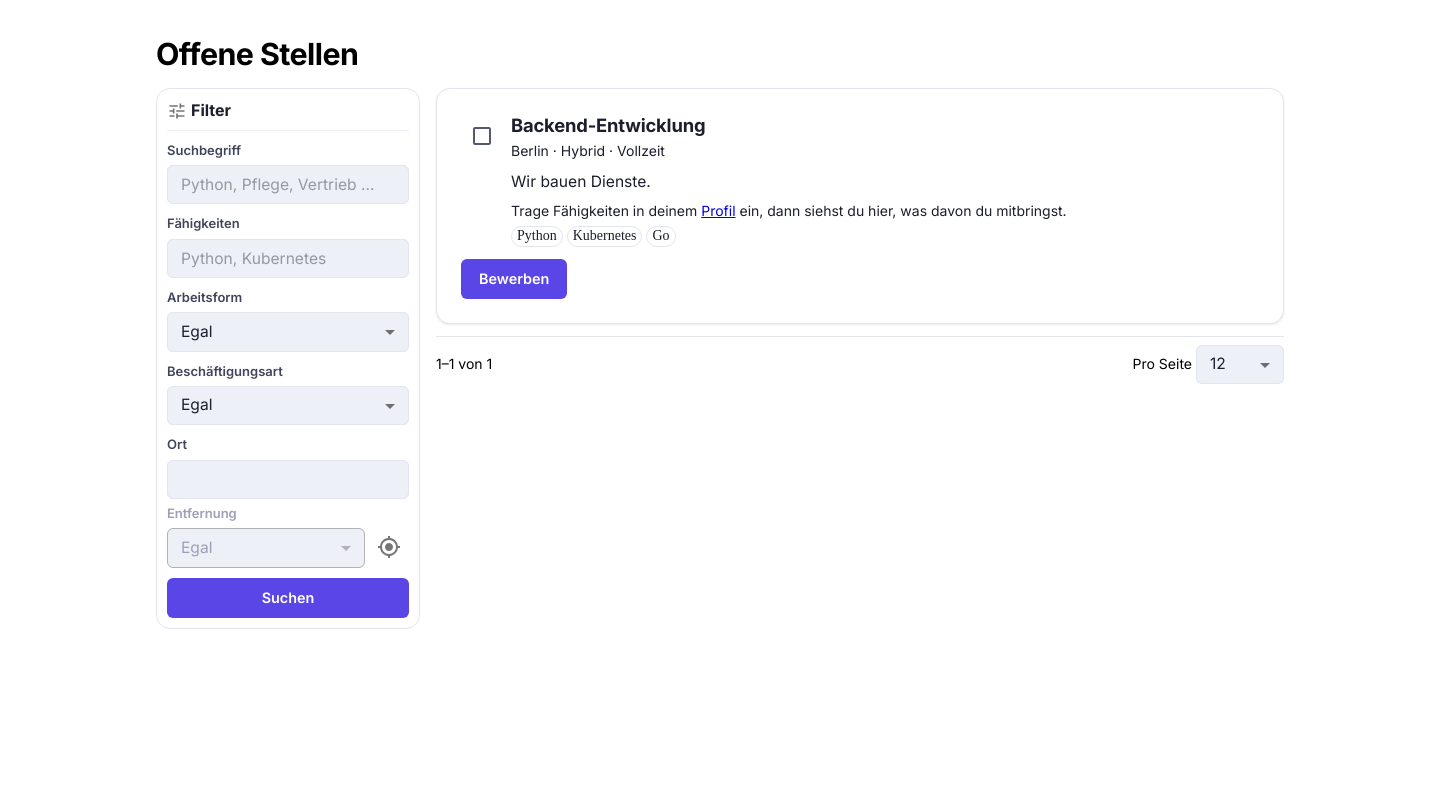
Test: JobsPage › lässt angemeldet mehrere Stellen auswählen
Expected: the heading "Backend-Entwicklung" is shown, [511, 114, 705, 136]
Click the checkbox named "Stelle auswählen".
click(482, 136)  # box [470, 124, 494, 148]
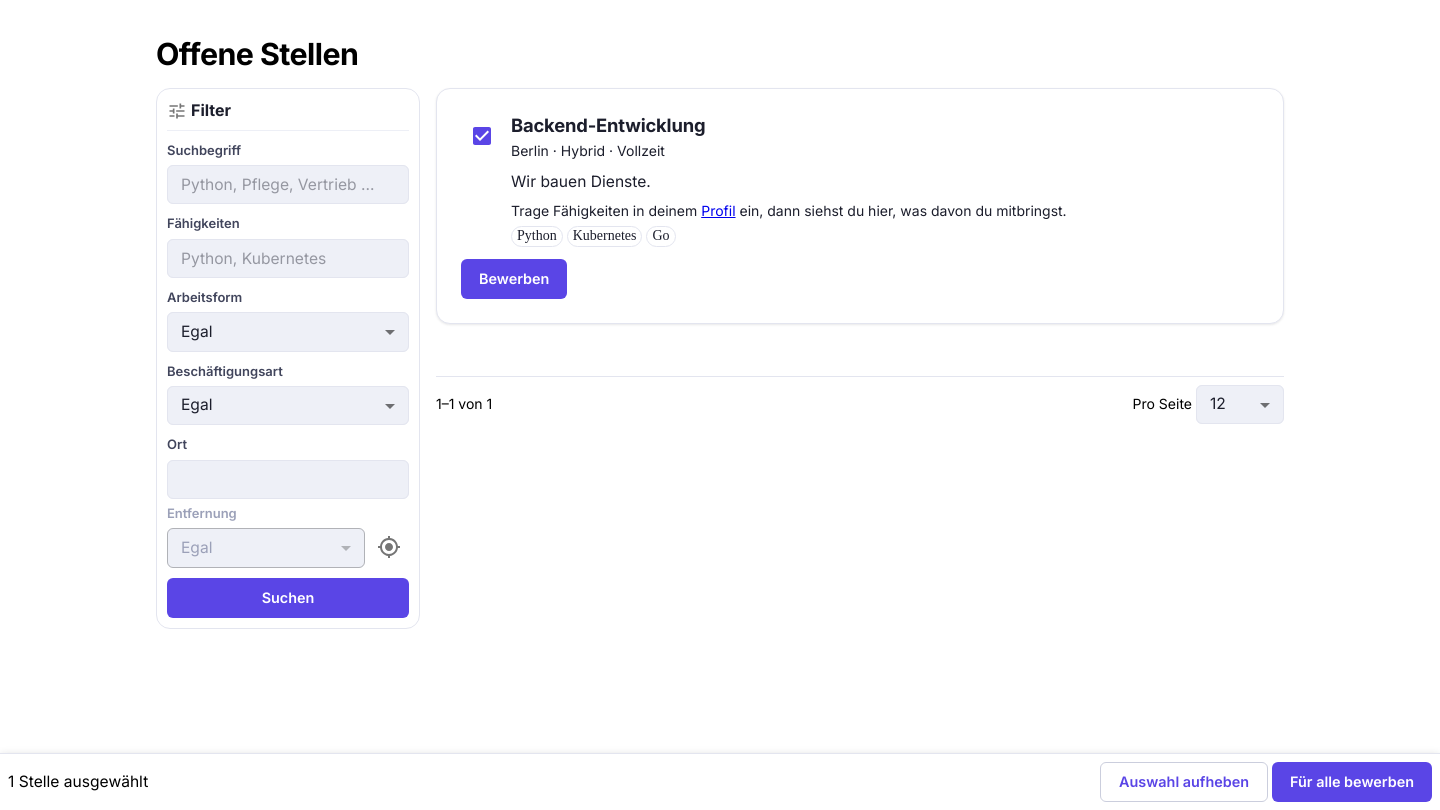
Now the text "1 Stelle ausgewählt" is shown, box [8, 769, 148, 795]
